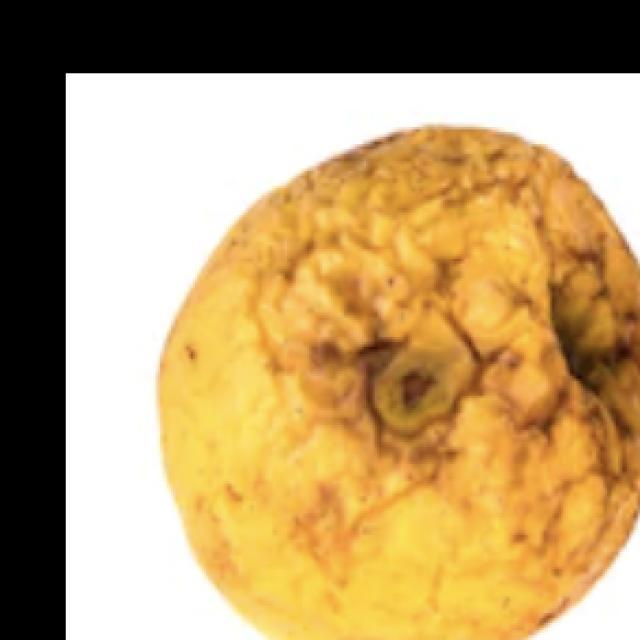Rotten: (150, 116, 640, 640)
